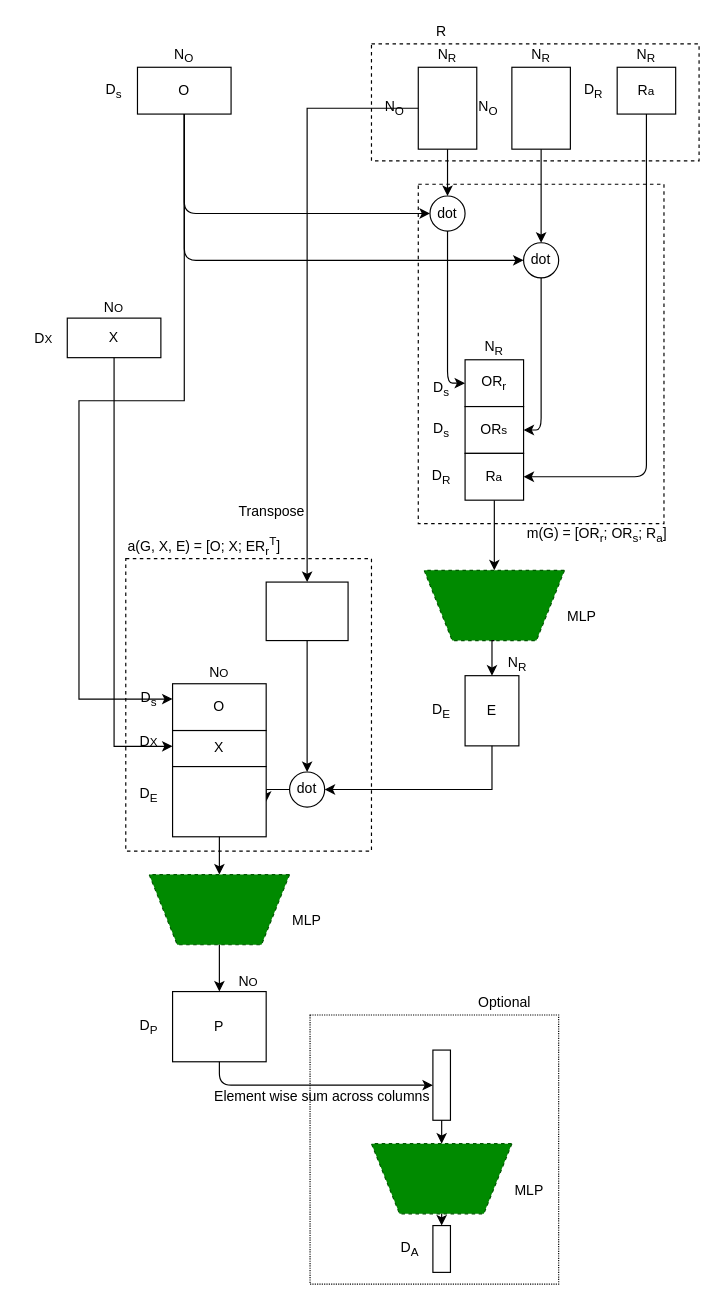
Image size: 720x1305. Some labels were removed from this diagram. Here are the shapes that lost their labels. From the top down, the box of each, then its label:
(417, 66, 477, 149): R r
(511, 66, 570, 149): R s
(265, 581, 348, 641): R r T
(423, 569, 565, 641): f R
(171, 765, 266, 837): ER r T
(148, 873, 290, 945): f O
(370, 1143, 512, 1214): φ A
